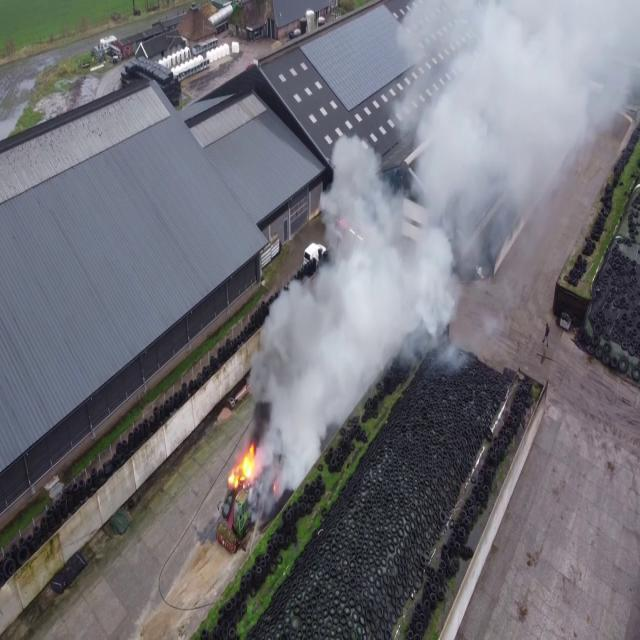Fire: (226, 434, 261, 496)
Smoke: (249, 4, 538, 490)
